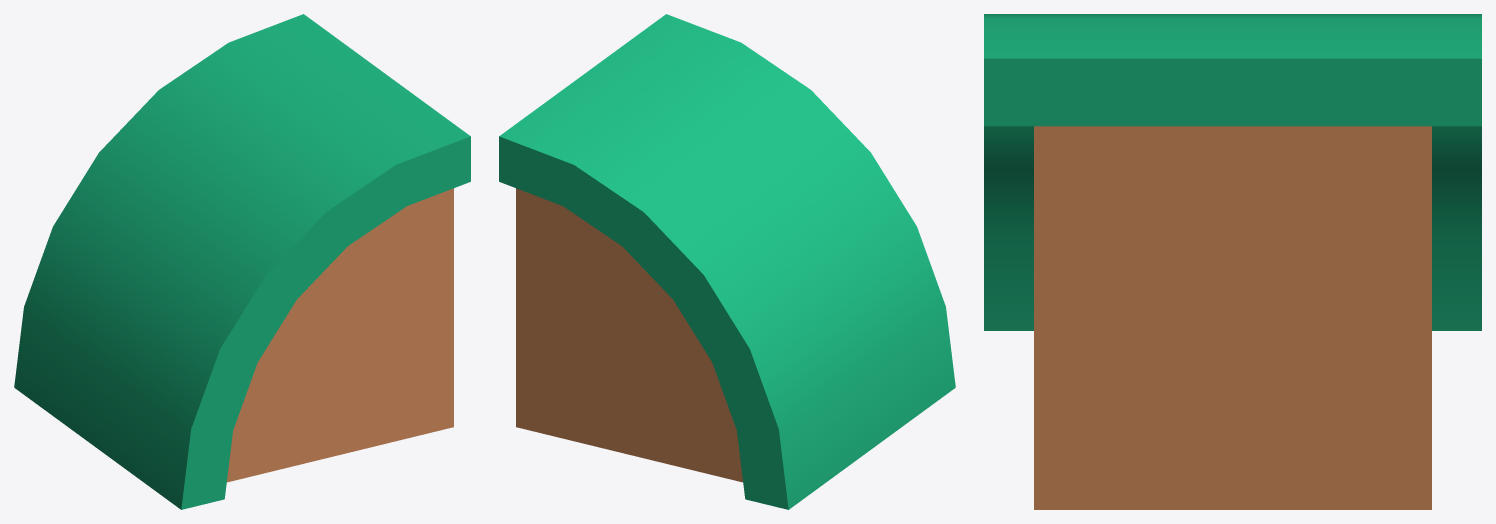
File: blockCurveHalf.obj
The picture shows the model from 3 angles, left to right: view 1: azimuth 30°, elevation 25°; view 2: azimuth 150°, elevation 25°; view 3: azimuth 270°, elevation 25°; orthographic projection. The views are drawn at different scales.
Parts seen in each view (by area): view 1: blockCurveHalf; view 2: blockCurveHalf; view 3: blockCurveHalf.
Boxes of the visible parts, left/top/right/bottom form: blockCurveHalf: left=14, top=14, right=470, bottom=509; blockCurveHalf: left=499, top=14, right=955, bottom=509; blockCurveHalf: left=984, top=14, right=1481, bottom=509.
Size of the model in its own units: 1 by 1 by 1.
